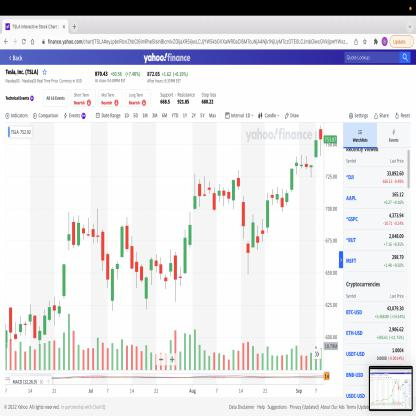Bearish: 3 Black Crows: (124, 213, 140, 290)
Bullish: 3 White Soldiers: (110, 222, 124, 314), (37, 297, 52, 346)
